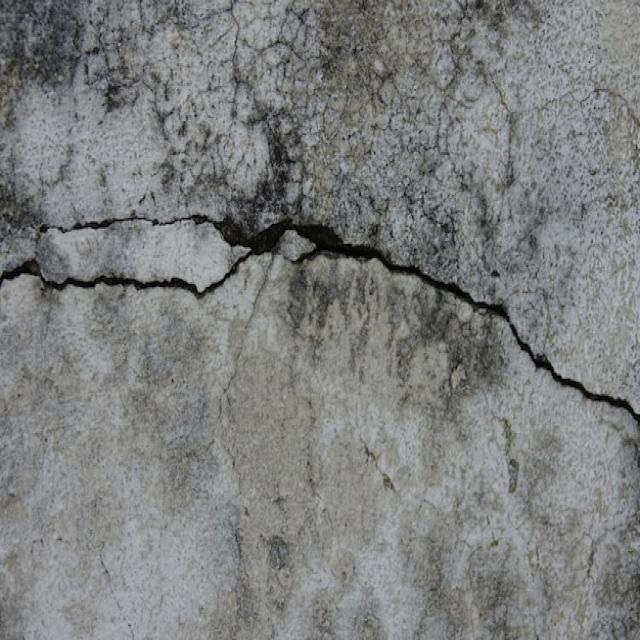Wall_Cracks: (1, 29, 638, 498)
